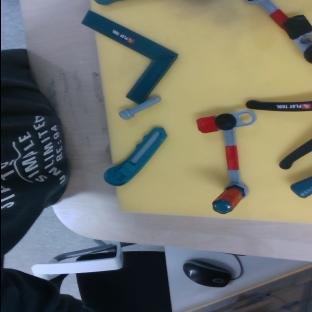pass: (195, 110, 262, 216)
